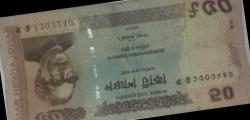50 taka: (10, 1, 239, 119)
